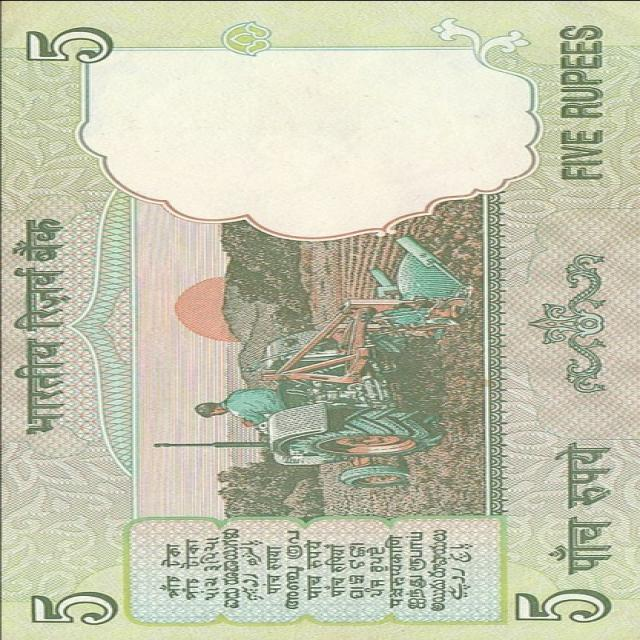5IndianRupees: (7, 1, 625, 640)
